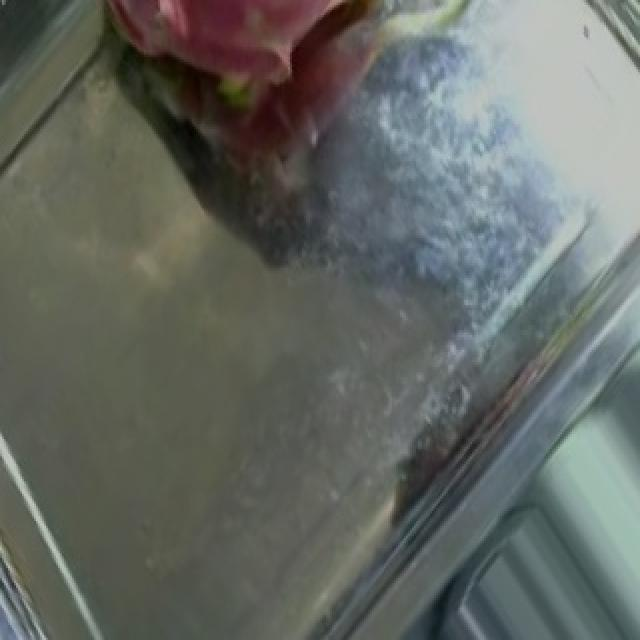fruit: (40, 0, 476, 238)
